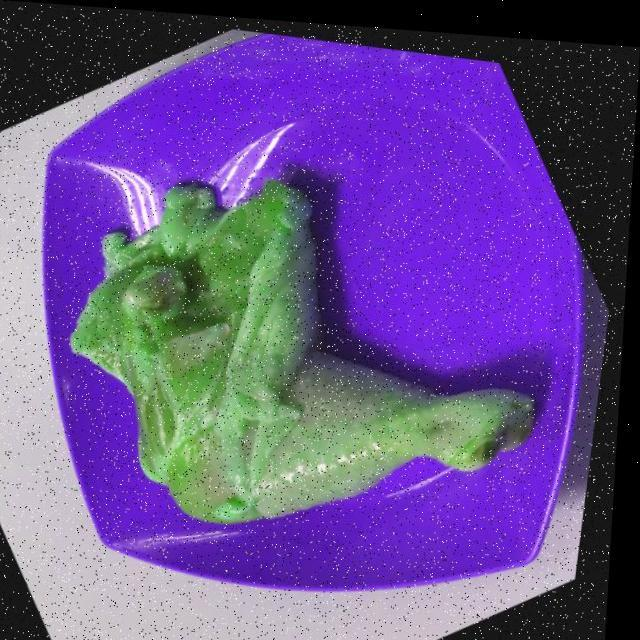quater: (57, 174, 557, 540)
